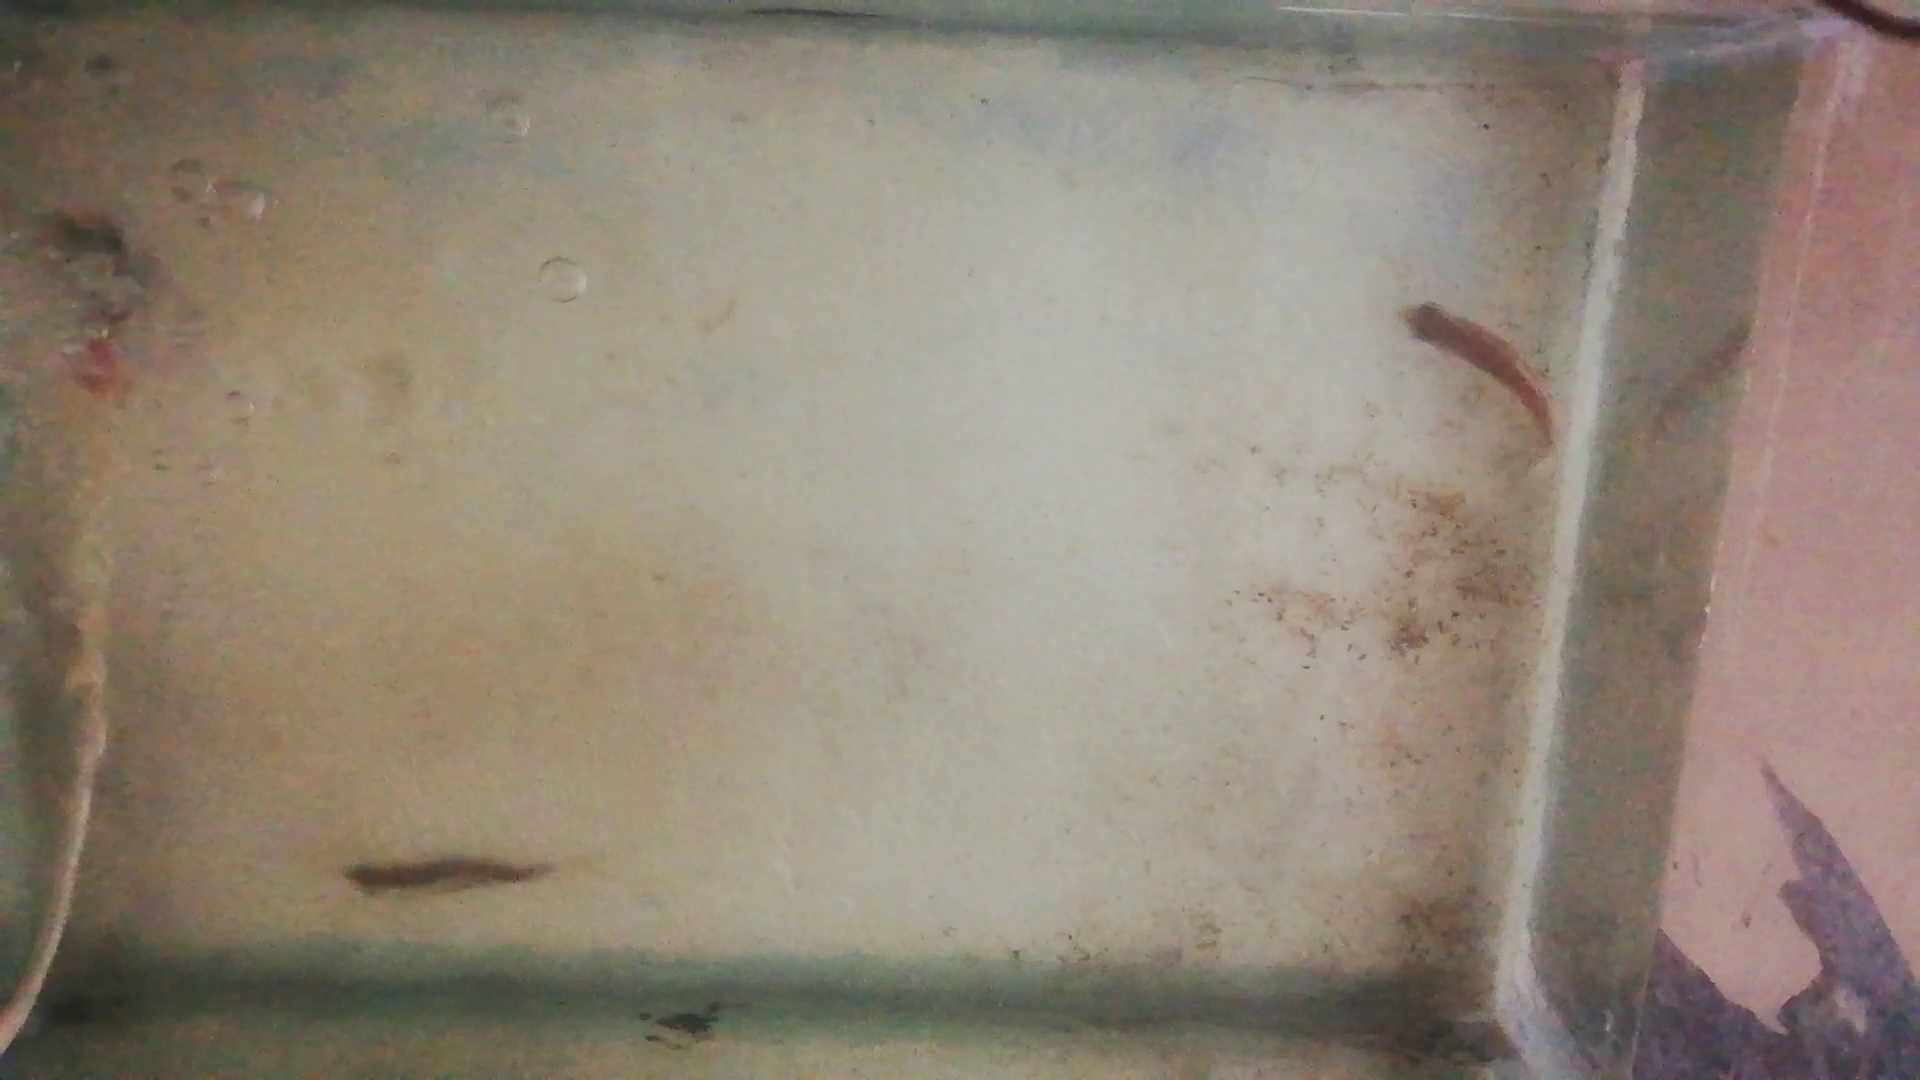fish: (1395, 298, 1556, 452), (342, 858, 556, 898)
